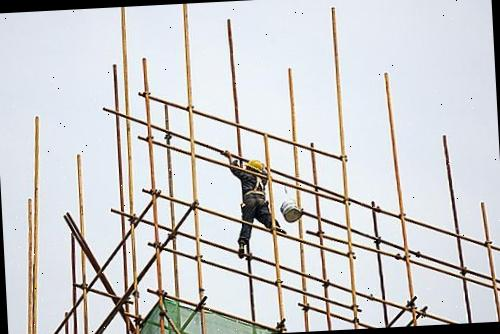helmet: (245, 158, 264, 171)
